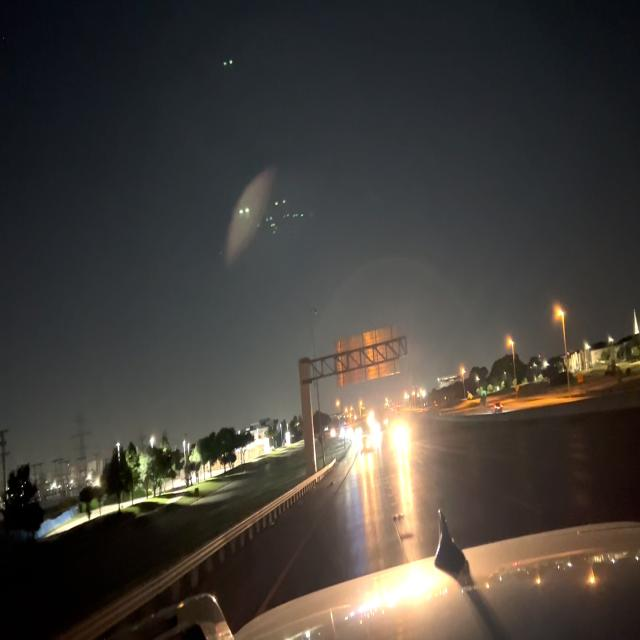back-of-sign: (332, 322, 404, 388)
